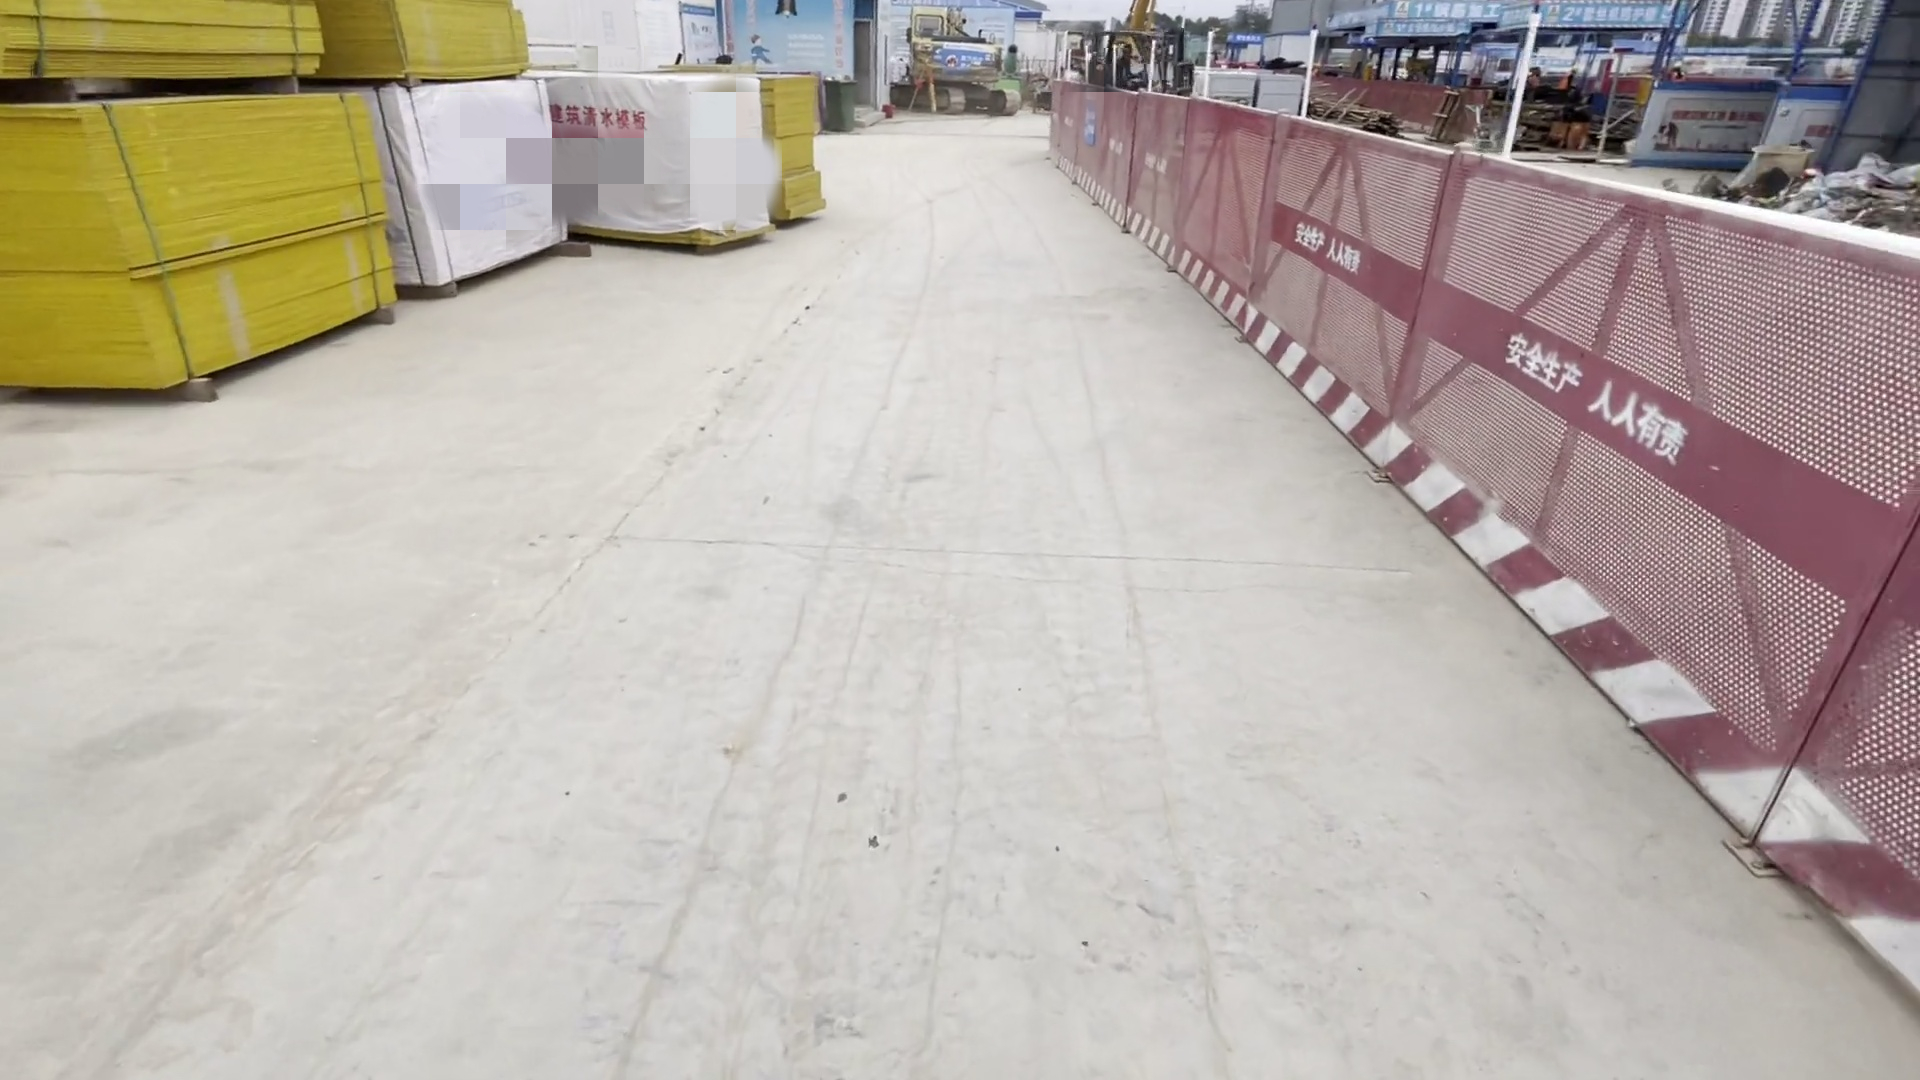board: (3, 7, 397, 409)
fence: (1030, 80, 1909, 1022)
